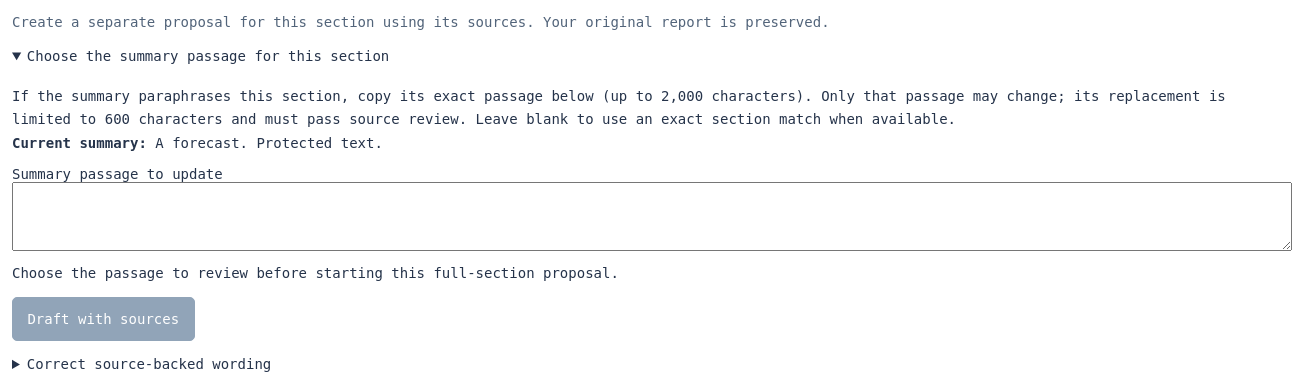
requires a summary selection before an unmapped full-section draft
The image size is (1304, 389).
Check: the button "Draft with sources" is disabled, box 12,297 -> 194,341
Type "A forecast." into the text box labelled "Summary passage to update".
click(652, 216); type("A forecast.")  # box 12,182 -> 1292,251
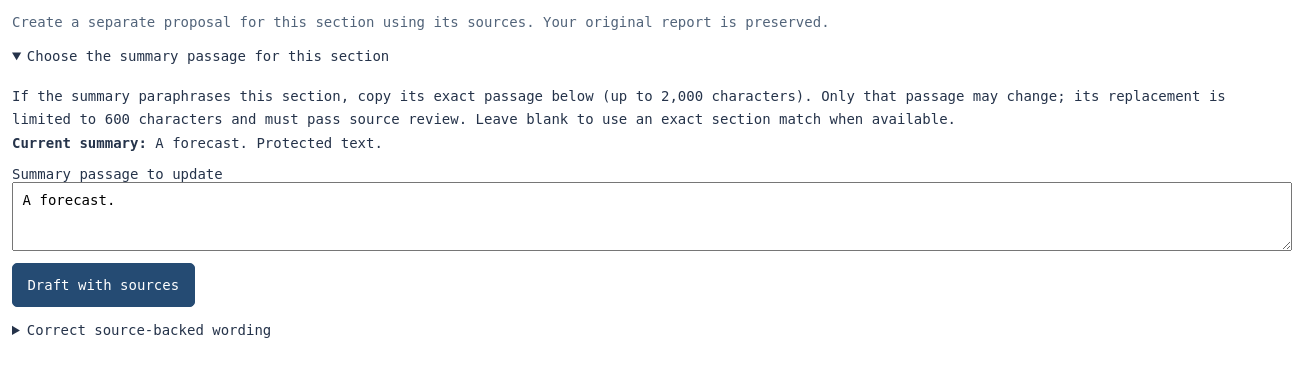
Check: the button "Draft with sources" is enabled, box 12,263 -> 194,307
